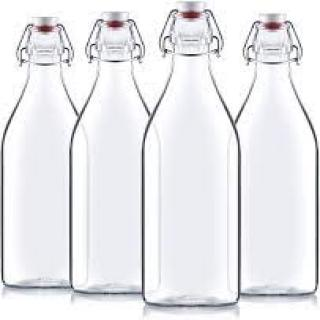GLASS: (141, 0, 248, 309), (68, 2, 166, 300), (231, 5, 320, 298), (2, 13, 94, 293)
